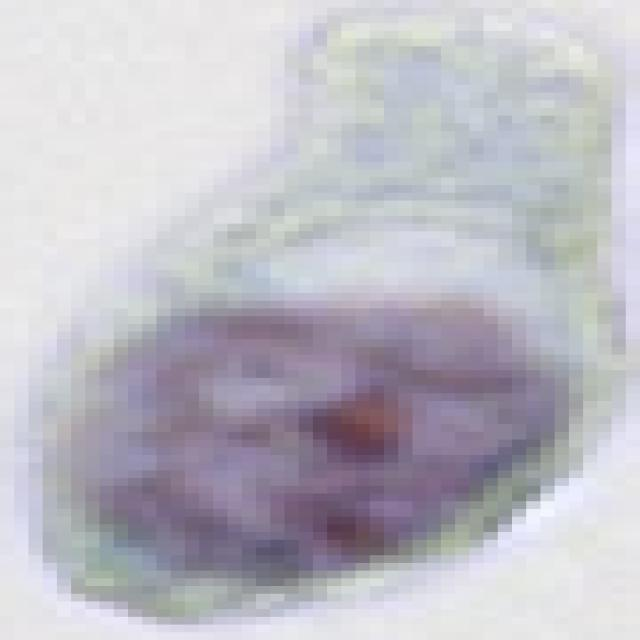cytoplasm: (0, 3, 634, 639)
nucleus: (29, 278, 586, 605)
